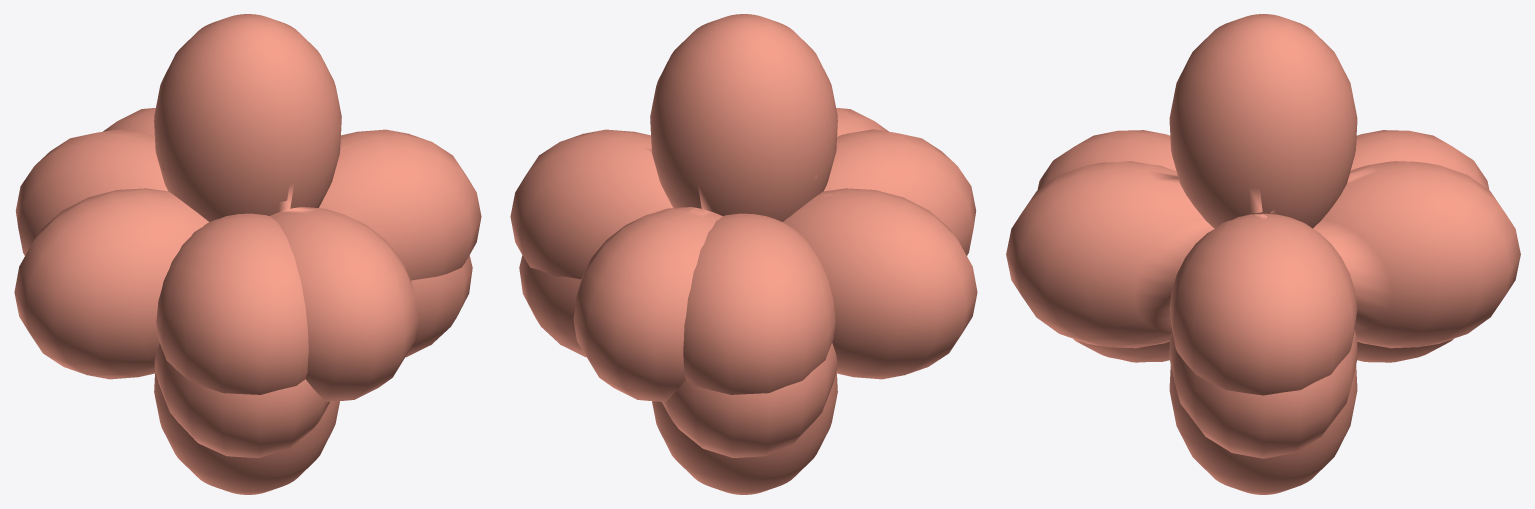
The model's file is hybridisation.glb.
3 renders of one model, left to right at view 1: azimuth 30°, elevation 25°; view 2: azimuth 150°, elevation 25°; view 3: azimuth 270°, elevation 25°, orthographic.
Parts seen in each view (by area): view 1: sp3d2_lobes, sp3d_lobes, sp_lobes, sp2_lobes, sp3_lobes; view 2: sp3d2_lobes, sp3d_lobes, sp_lobes, sp2_lobes, sp3_lobes; view 3: sp3d2_lobes, sp3d_lobes, sp3_lobes, sp2_lobes, sp_lobes.
Boxes of the visible parts, x1,y1,x2,y2 form: sp3d2_lobes: (15,15,476,494); sp3d_lobes: (15,14,477,494); sp_lobes: (14,131,479,379); sp2_lobes: (17,129,481,394); sp3_lobes: (154,19,472,457); sp3d2_lobes: (513,15,976,494); sp3d_lobes: (514,14,976,494); sp_lobes: (512,132,977,379); sp2_lobes: (510,129,974,394); sp3_lobes: (519,20,837,457); sp3d2_lobes: (1006,14,1520,494); sp3d_lobes: (1039,14,1486,494); sp3_lobes: (1073,18,1453,458); sp2_lobes: (1037,131,1489,395); sp_lobes: (1171,213,1355,393).
Bounding box in the file's own units: 0.1 × 0.1 × 0.1.
